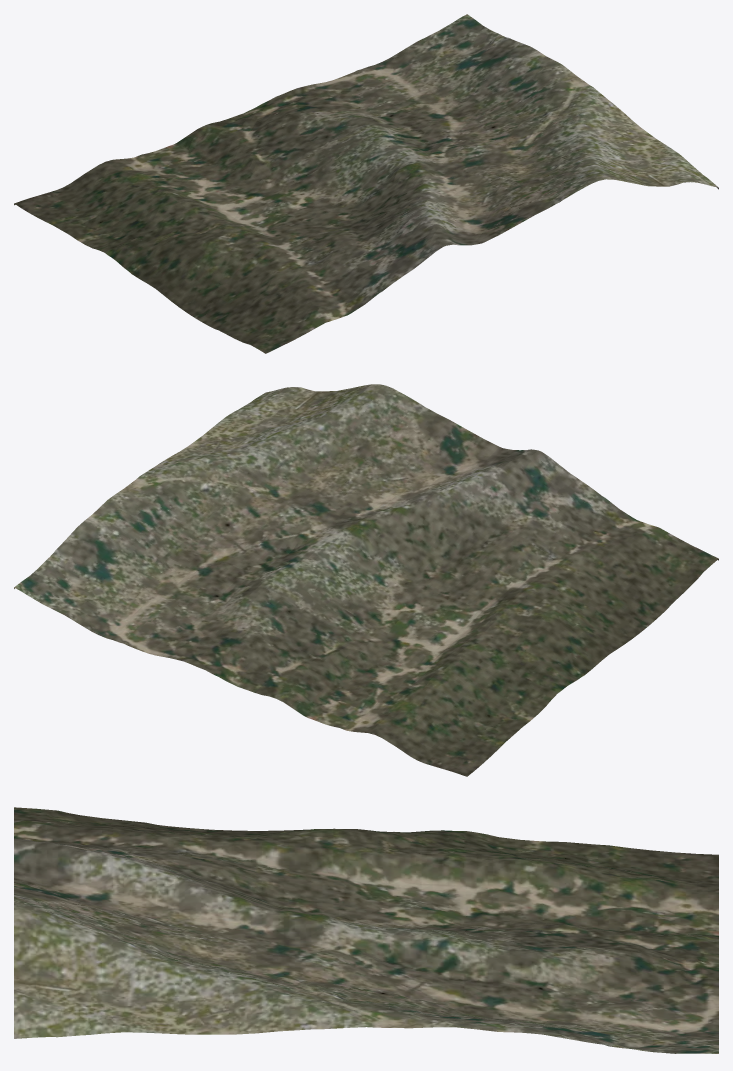
3 views of the same model, one above another, from view 1: azimuth 30°, elevation 25°; view 2: azimuth 150°, elevation 25°; view 3: azimuth 270°, elevation 25° (orthographic). The views are drawn at different scales.
Size of the model in its own units: 250 by 67.27 by 241.
Materials: 1 (1 with a texture image).
